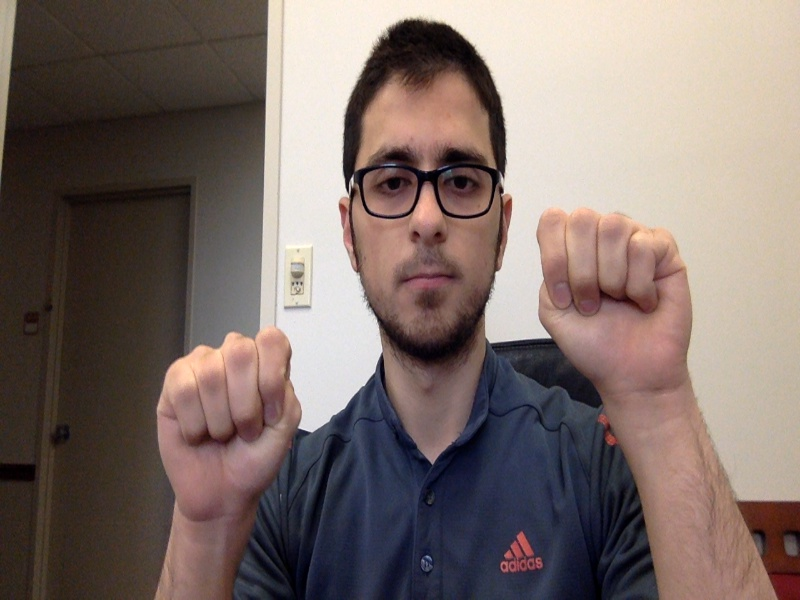0-hand: (537, 208, 694, 393), (156, 329, 303, 517)
